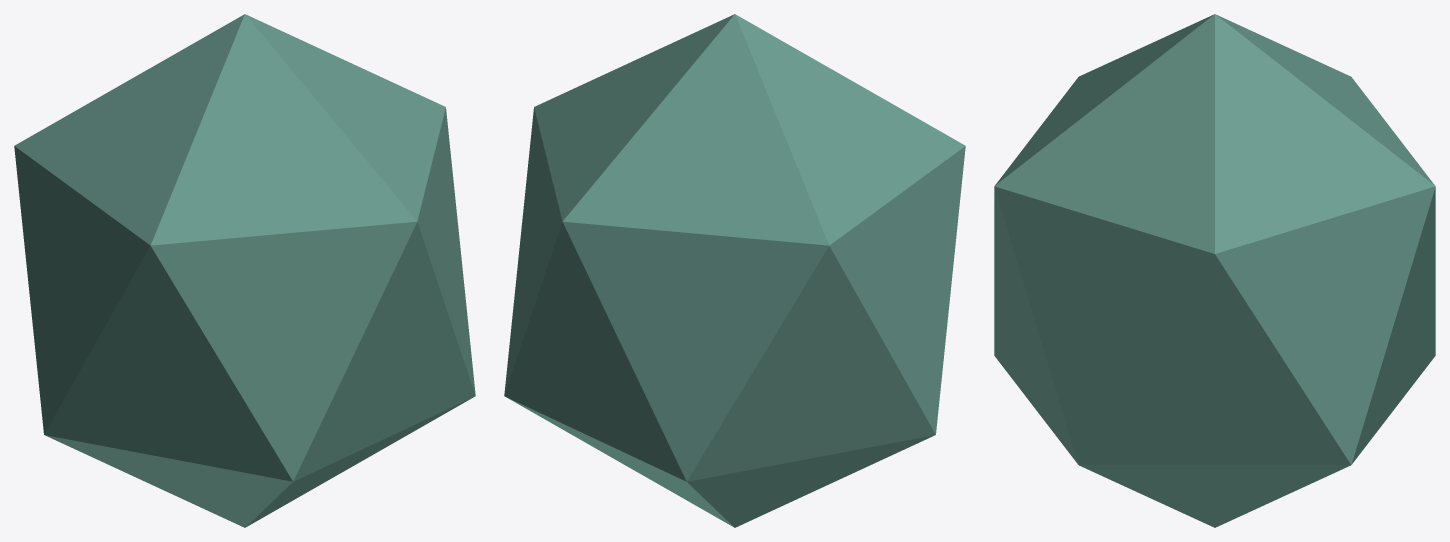
File: ore-copper-lod1.685b41481c77.glb
3 renders of one model, left to right at view 1: azimuth 30°, elevation 25°; view 2: azimuth 150°, elevation 25°; view 3: azimuth 270°, elevation 25°, orthographic.
Parts seen in each view (by area): view 1: body; view 2: body; view 3: body.
Part boxes in pixels (x1=…): body: x1=14, y1=14, x2=475, y2=527; body: x1=504, y1=14, x2=965, y2=527; body: x1=994, y1=14, x2=1435, y2=527.
Bounding box in the file's own units: 0.3846 × 0.47 × 0.3658.
